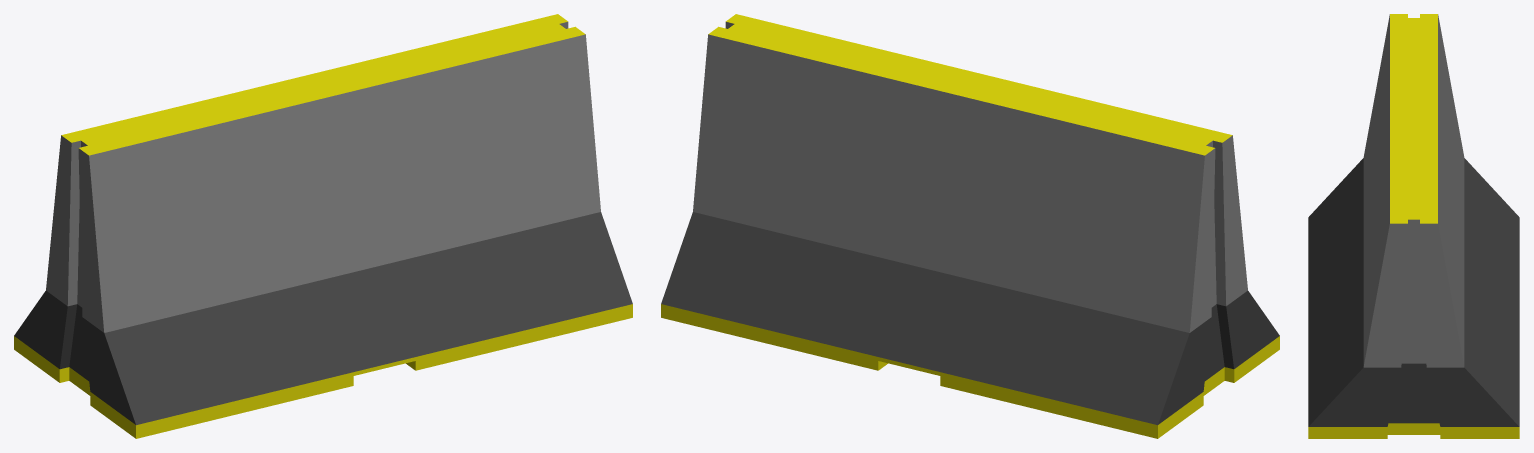
Rendered from Barrier.fbx.
3 views of the same model, side by side, from view 1: azimuth 30°, elevation 25°; view 2: azimuth 150°, elevation 25°; view 3: azimuth 270°, elevation 25° (orthographic). The views are drawn at different scales.
Parts seen in each view (by area): view 1: Cube; view 2: Cube; view 3: Cube.
Boxes of the visible parts, x1,y1,x2,y2 form: Cube: (14, 14, 632, 438); Cube: (661, 14, 1279, 438); Cube: (1308, 14, 1519, 438).
Size of the model in its own units: 983 by 471 by 419.
